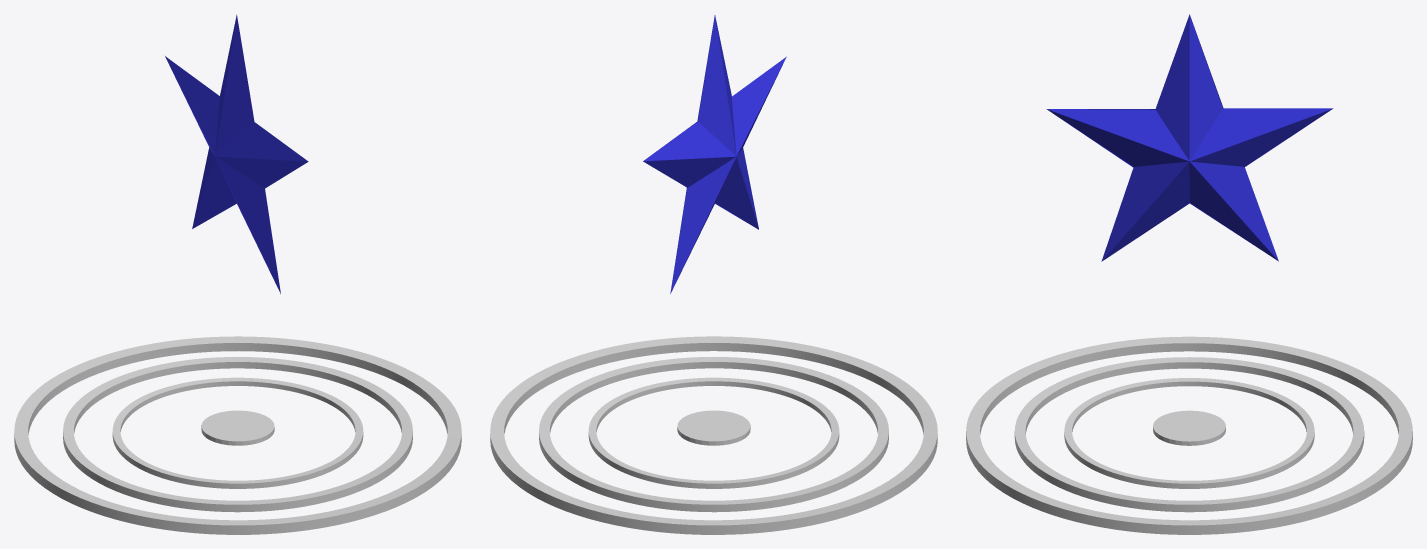
Rendered from Star.fbx.
3 views of the same model, side by side, from view 1: azimuth 30°, elevation 25°; view 2: azimuth 150°, elevation 25°; view 3: azimuth 270°, elevation 25° (orthographic).
Parts seen in each view (by area): view 1: BezierCircle, Circle.001, BezierCircle.001, BezierCircle.002, Circle; view 2: BezierCircle, Circle.001, BezierCircle.001, BezierCircle.002, Circle; view 3: Circle.001, BezierCircle, BezierCircle.001, BezierCircle.002, Circle.
Part boxes in pixels (x1=…): BezierCircle: x1=14, y1=336, x2=461, y2=534; Circle.001: x1=165, y1=14, x2=308, y2=293; BezierCircle.001: x1=63, y1=357, x2=412, y2=512; BezierCircle.002: x1=112, y1=377, x2=363, y2=488; Circle: x1=201, y1=410, x2=274, y2=445; BezierCircle: x1=490, y1=336, x2=937, y2=534; Circle.001: x1=643, y1=15, x2=786, y2=293; BezierCircle.001: x1=539, y1=357, x2=888, y2=512; BezierCircle.002: x1=588, y1=377, x2=839, y2=488; Circle: x1=677, y1=410, x2=750, y2=445; Circle.001: x1=1046, y1=14, x2=1333, y2=261; BezierCircle: x1=966, y1=336, x2=1412, y2=534; BezierCircle.001: x1=1014, y1=357, x2=1364, y2=512; BezierCircle.002: x1=1064, y1=378, x2=1314, y2=488; Circle: x1=1153, y1=410, x2=1225, y2=445.
Bounding box in the file's own units: 200 × 210 × 200.
